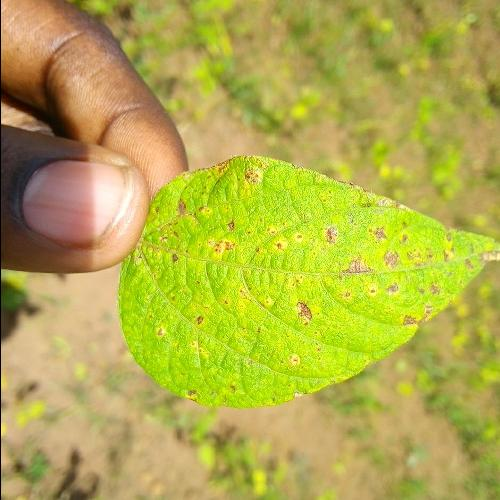hawar: (333, 217, 456, 333), (155, 196, 245, 266), (276, 284, 327, 327), (184, 296, 219, 328)
mozaik: (129, 179, 471, 398)
